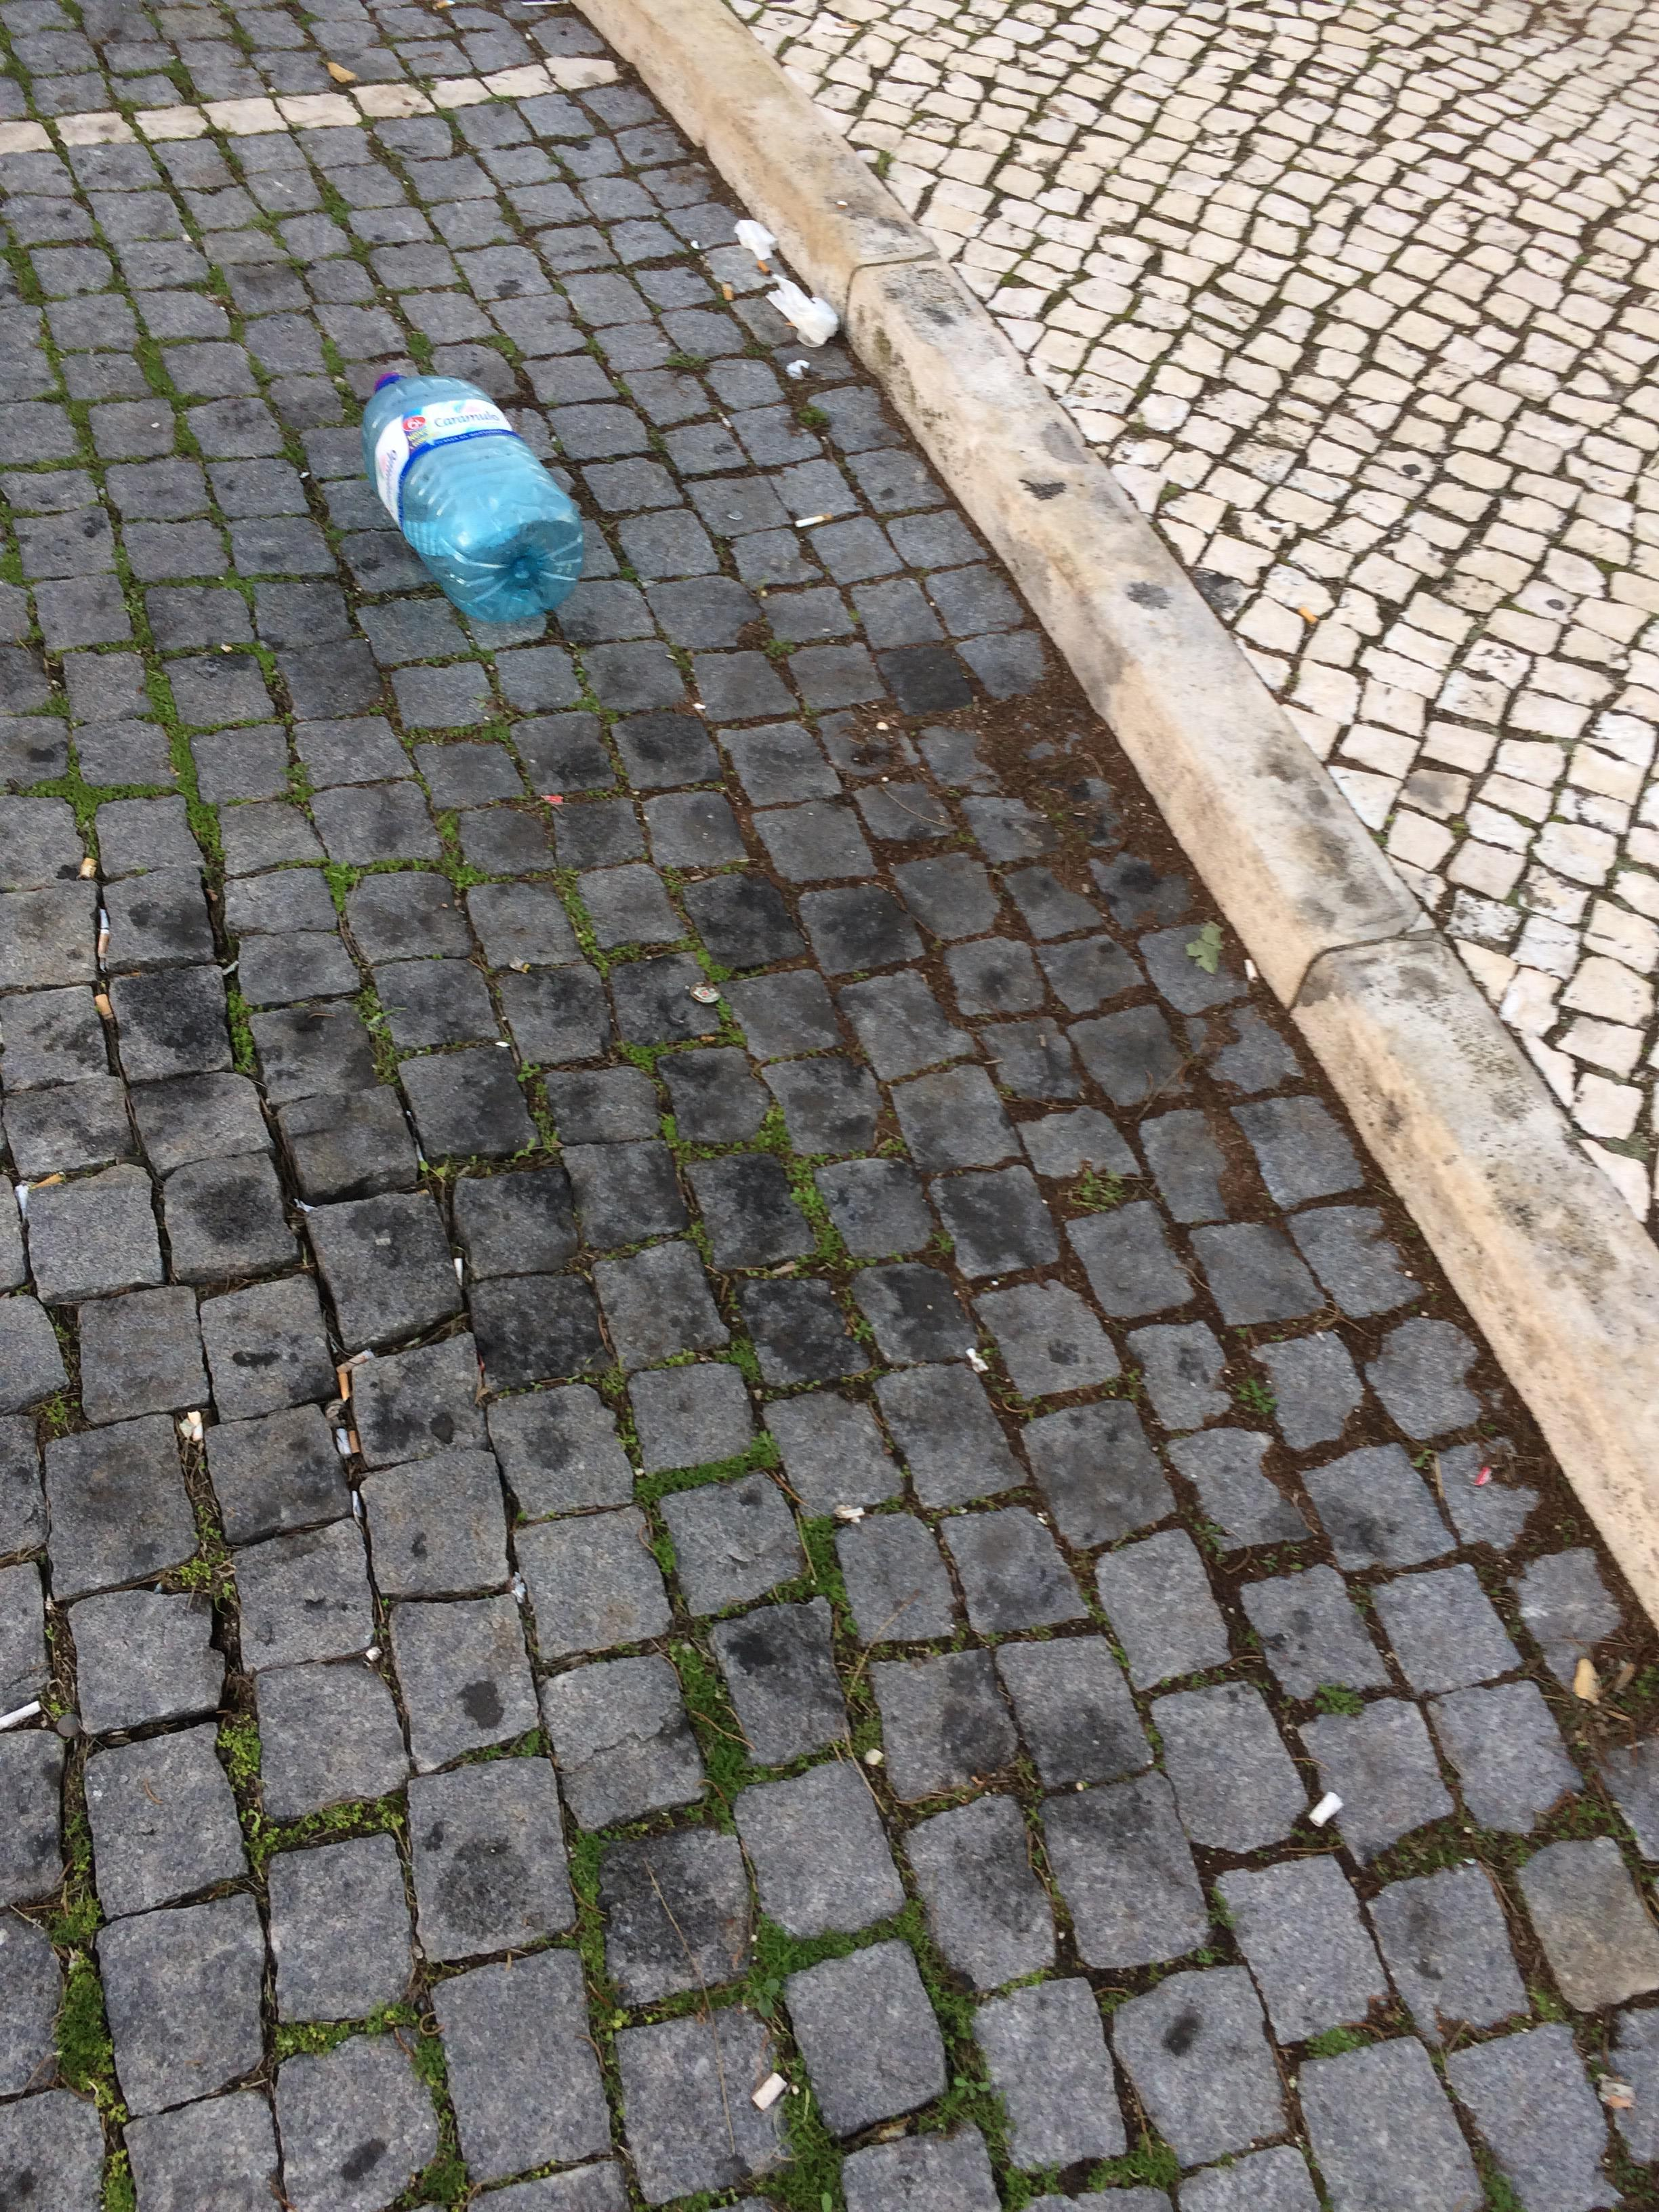Trash: (361, 373, 589, 617)
